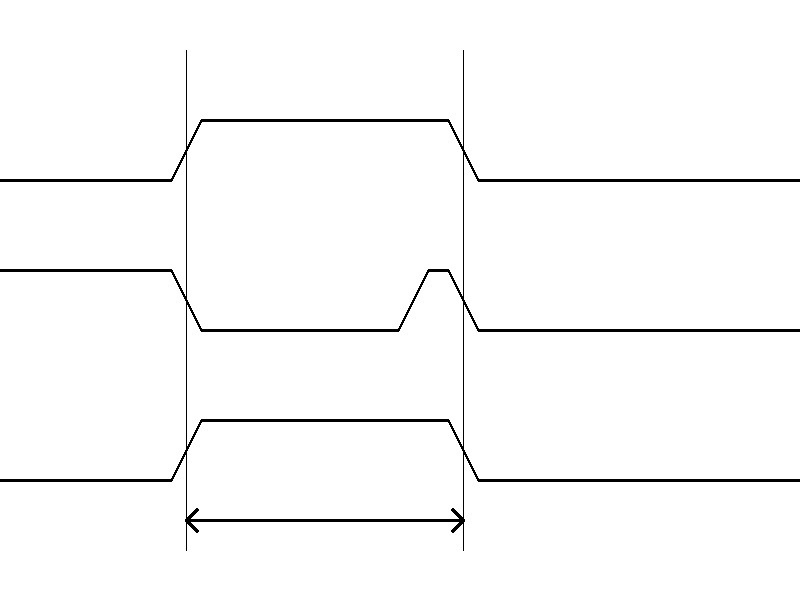double_arrow: (186, 505, 463, 535)
